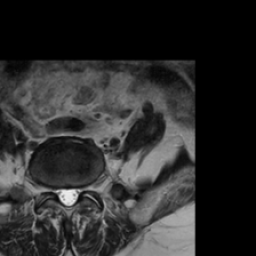CCS_normal: (63, 182, 71, 212)
LFS_severe_stenosis: (79, 176, 87, 200)
LLS_normal: (71, 181, 79, 208)
RFS_stenosis: (47, 177, 55, 203)
RLS_normal: (55, 179, 63, 207)
